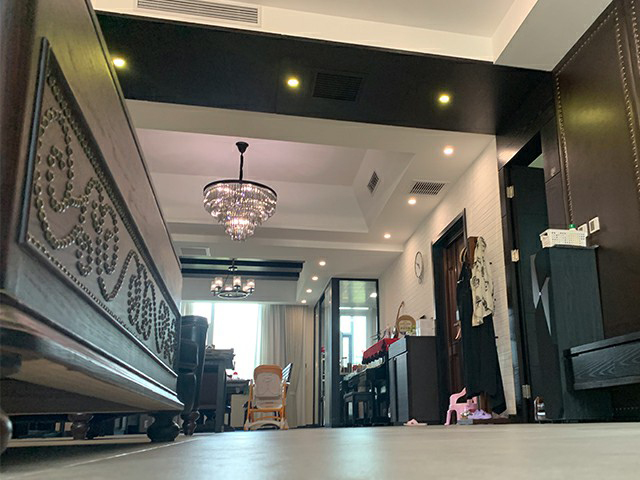cabinet: (385, 335, 445, 427)
curtain: (260, 303, 315, 430)
slippers: (402, 418, 428, 427)
stool: (444, 387, 479, 426), (343, 391, 375, 427)
table: (1, 1, 183, 457)
